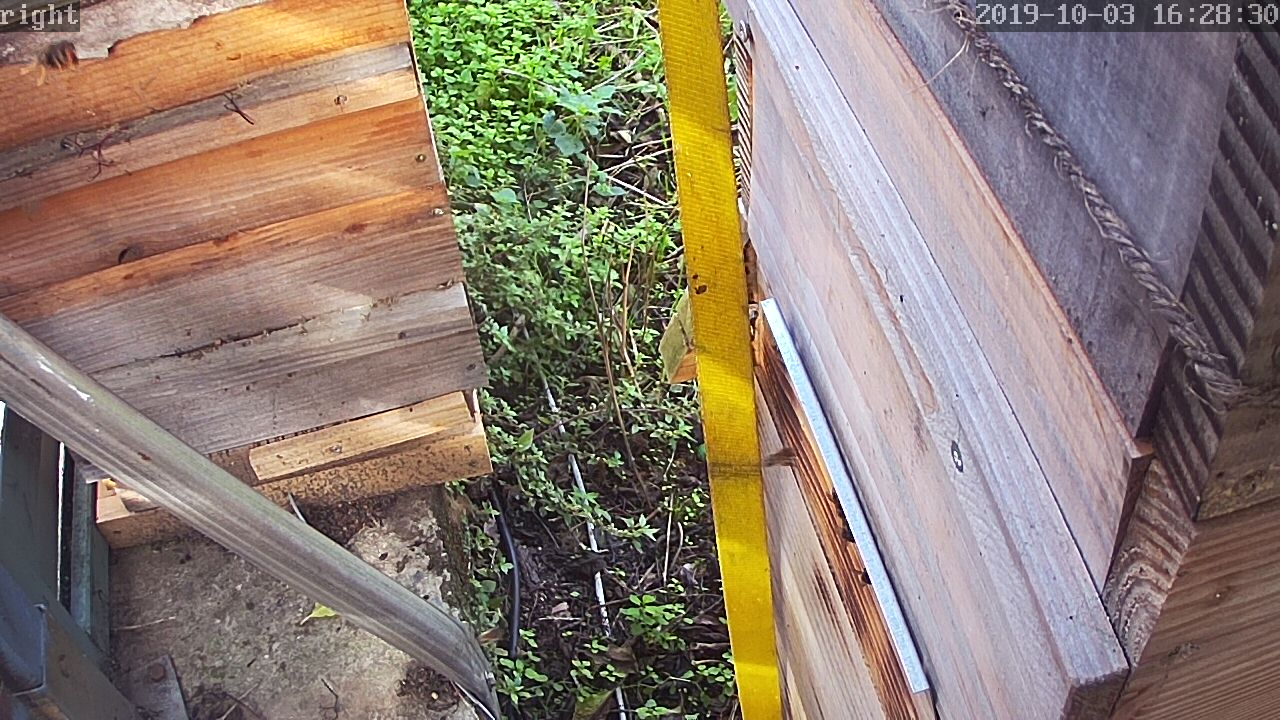hornet: (3, 20, 110, 77), (626, 251, 658, 304)
